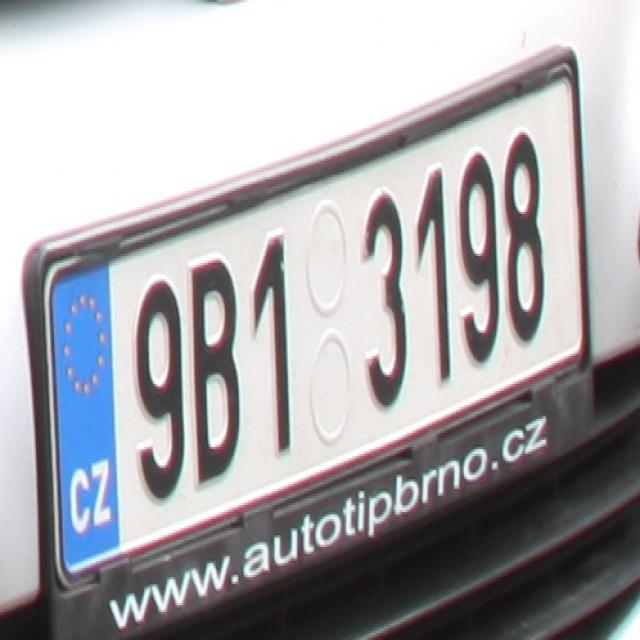1: (252, 233, 295, 456), (415, 163, 455, 386)
3: (361, 188, 408, 412)
8: (502, 130, 545, 342)
9: (134, 277, 186, 500), (459, 149, 500, 361)
B: (187, 249, 240, 479)
